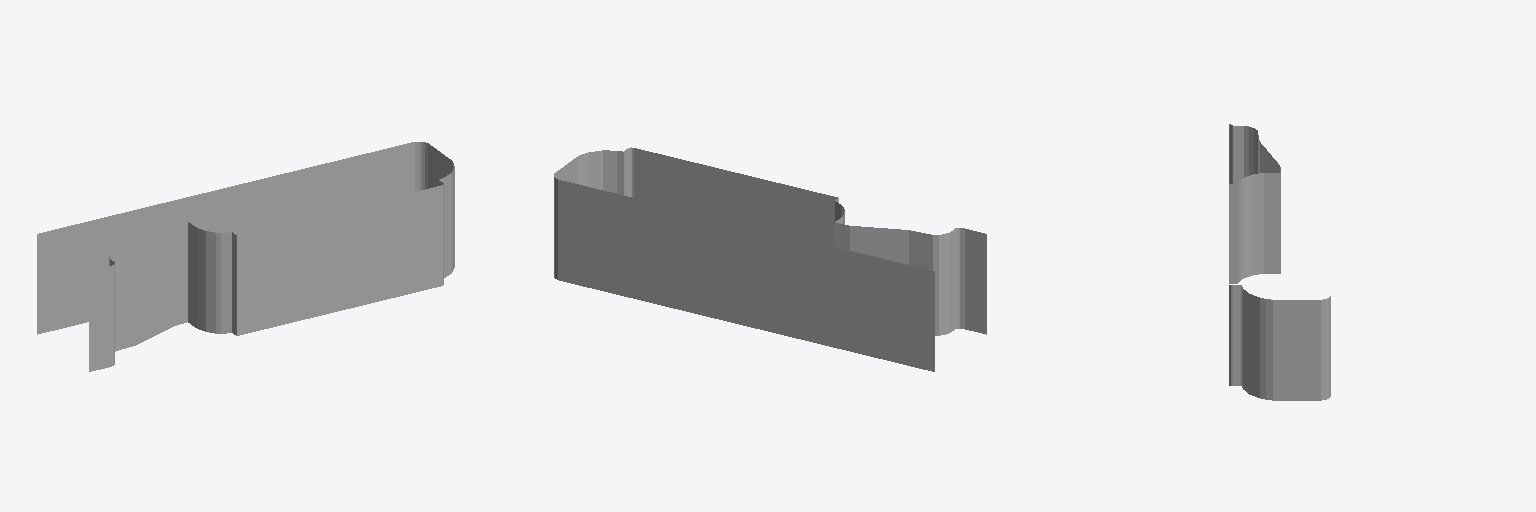
Rendered from original-74.obj.
3 views of the same model, side by side, from view 1: azimuth 30°, elevation 25°; view 2: azimuth 150°, elevation 25°; view 3: azimuth 270°, elevation 25° (orthographic).
Visible parts, largest first — view 1: DF_11_CR2/DF_11_CR/mesh31/mesh31-geometry#mesh31-geometry; view 2: DF_11_CR2/DF_11_CR/mesh31/mesh31-geometry#mesh31-geometry; view 3: DF_11_CR2/DF_11_CR/mesh31/mesh31-geometry#mesh31-geometry.
Part boxes in pixels (x1,y1,x2,y2): DF_11_CR2/DF_11_CR/mesh31/mesh31-geometry#mesh31-geometry: (37, 142, 454, 371); DF_11_CR2/DF_11_CR/mesh31/mesh31-geometry#mesh31-geometry: (554, 147, 986, 371); DF_11_CR2/DF_11_CR/mesh31/mesh31-geometry#mesh31-geometry: (1229, 124, 1330, 400).
Size of the model in its own units: 0.1169 by 0.0292 by 0.027.